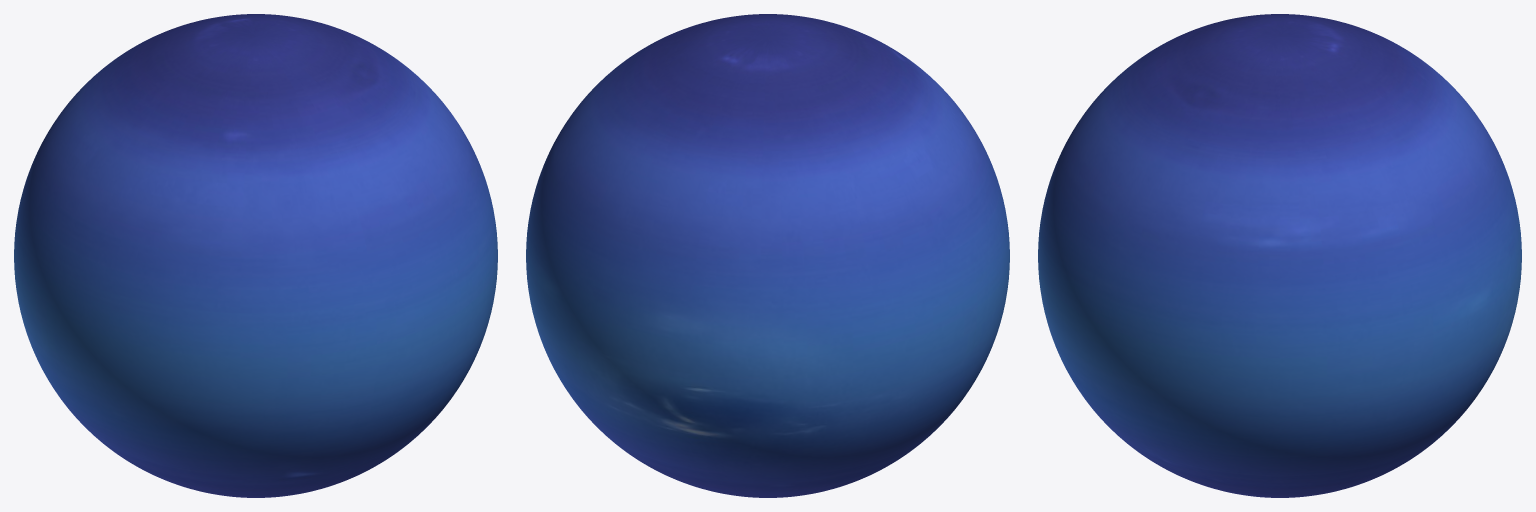
Rendered from neptune.obj.
3 views of the same model, side by side, from view 1: azimuth 30°, elevation 25°; view 2: azimuth 150°, elevation 25°; view 3: azimuth 270°, elevation 25° (orthographic).
Visible parts, largest first — view 1: cylindrically_mapped_sphere.001; view 2: cylindrically_mapped_sphere.001; view 3: cylindrically_mapped_sphere.001.
Part boxes in pixels (left/top/right/bottom): cylindrically_mapped_sphere.001: left=14, top=14, right=497, bottom=497; cylindrically_mapped_sphere.001: left=526, top=14, right=1009, bottom=497; cylindrically_mapped_sphere.001: left=1038, top=14, right=1521, bottom=497.
Size of the model in its own units: 1000 by 1000 by 1000.
1 material, 1 textured.
